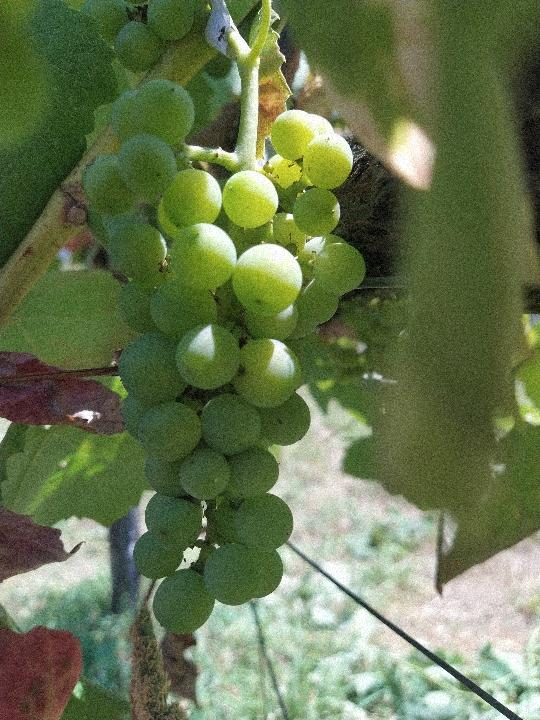grape: (76, 76, 373, 638)
